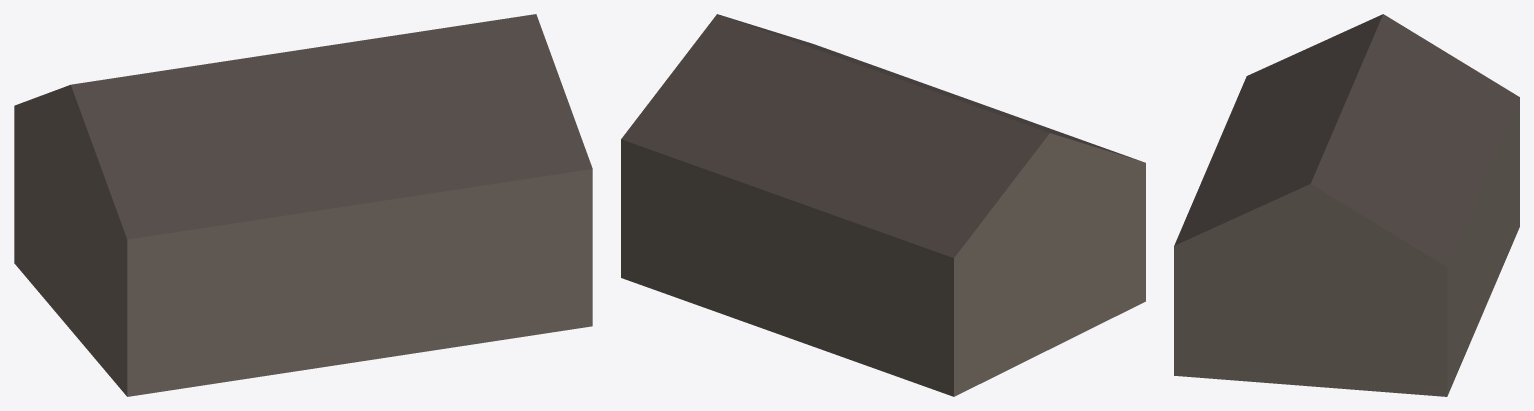
The picture shows the model from 3 angles, left to right: view 1: azimuth 30°, elevation 25°; view 2: azimuth 150°, elevation 25°; view 3: azimuth 270°, elevation 25°; orthographic projection. The views are drawn at different scales.
Visible parts, largest first — view 1: HP-w859082501; view 2: HP-w859082501; view 3: HP-w859082501.
Part boxes in pixels (<box>): HP-w859082501: <box>14,14,592,396</box>; HP-w859082501: <box>621,14,1145,396</box>; HP-w859082501: <box>1174,14,1519,396</box>.
Size of the model in its own units: 18.91 by 9.35 by 14.47.
